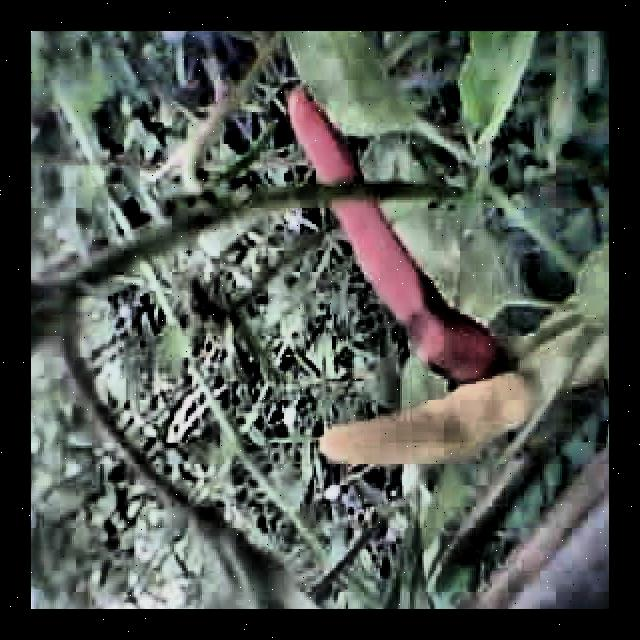Cabai: (289, 100, 517, 367), (314, 375, 545, 477)
